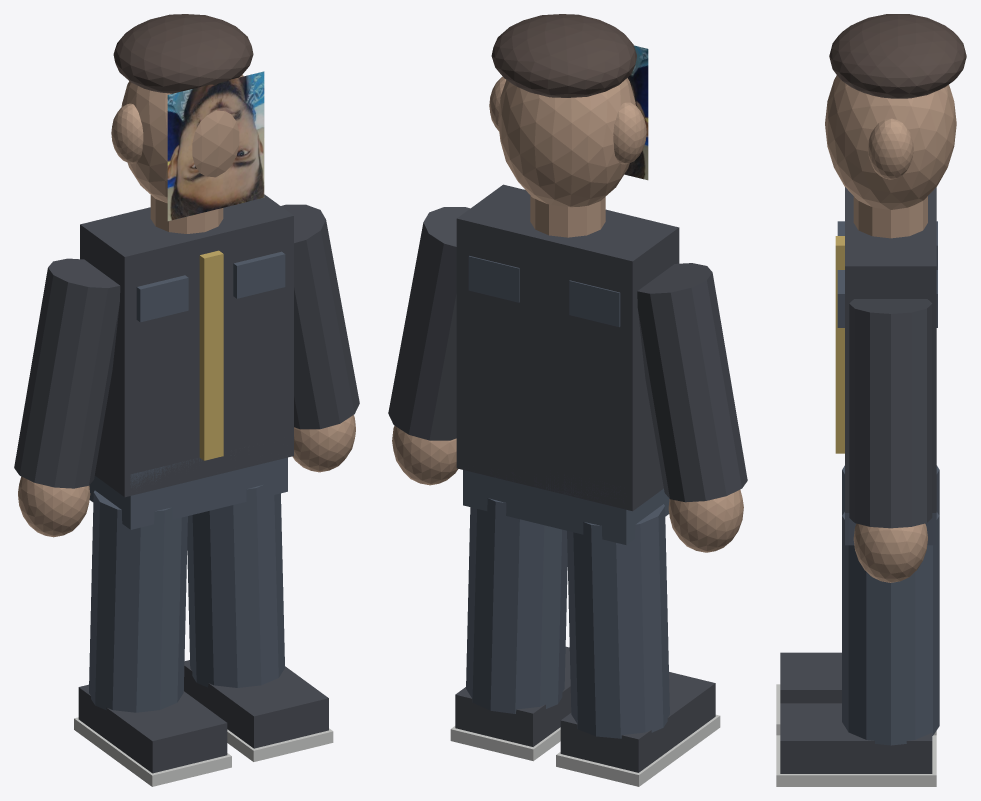
The model's file is bash_hero_black_jacket.glb.
The picture shows the model from 3 angles, left to right: view 1: azimuth 30°, elevation 25°; view 2: azimuth 150°, elevation 25°; view 3: azimuth 270°, elevation 25°; orthographic projection. The views are drawn at different scales.
Visible parts, largest first — view 1: black_jacket_torso, left_jeans_leg, left_jacket_sleeve, right_jeans_leg, right_jacket_sleeve, photo_face_front_decal, hair_top, left_sneaker, right_sneaker, jeans_waist, head_3d, jacket_gold_zipper (+8 smaller); view 2: black_jacket_torso, left_jeans_leg, left_jacket_sleeve, right_jeans_leg, head_3d, right_jacket_sleeve, hair_top, jeans_waist, left_sneaker, right_sneaker, left_hand, right_hand (+7 smaller); view 3: right_jacket_sleeve, right_jeans_leg, head_3d, hair_top, black_jacket_torso, right_sneaker, right_hand, left_sneaker, right_sneaker_sole, ear_1, neck, jacket_gold_zipper (+2 smaller).
Part boxes in pixels (x1,y1,x2,y2): black_jacket_torso: (80,194,293,497); left_jeans_leg: (89,490,187,712); left_jacket_sleeve: (14,258,120,488); right_jeans_leg: (187,484,284,687); right_jacket_sleeve: (281,204,359,429); photo_face_front_decal: (167,71,264,221); hair_top: (113,14,253,93); left_sneaker: (78,684,227,773); right_sneaker: (184,660,328,748); jeans_waist: (89,447,287,529); head_3d: (121,74,243,203); jacket_gold_zipper: (199,250,223,460); black_jacket_torso: (456,184,679,511); left_jeans_leg: (567,504,669,738); left_jacket_sleeve: (637,263,747,502); right_jeans_leg: (466,498,567,713); head_3d: (498,78,635,207); right_jacket_sleeve: (388,207,470,440); hair_top: (491,14,636,97); jeans_waist: (463,470,669,545); left_sneaker: (560,672,715,772); right_sneaker: (455,646,571,746); left_hand: (668,490,743,552); right_hand: (392,425,458,485); right_jacket_sleeve: (849,299,932,528); right_jeans_leg: (842,512,939,745); head_3d: (825,75,956,209); hair_top: (829,14,966,98); black_jacket_torso: (845,187,936,512); right_sneaker: (780,703,932,773); right_hand: (853,523,927,582); left_sneaker: (780,652,841,703); right_sneaker_sole: (776,735,936,786); ear_1: (868,118,913,179); neck: (853,196,927,238); jacket_gold_zipper: (835,236,844,453).
Size of the model in its own units: 1.39 by 2.75 by 0.665.
1 material, 1 textured.
